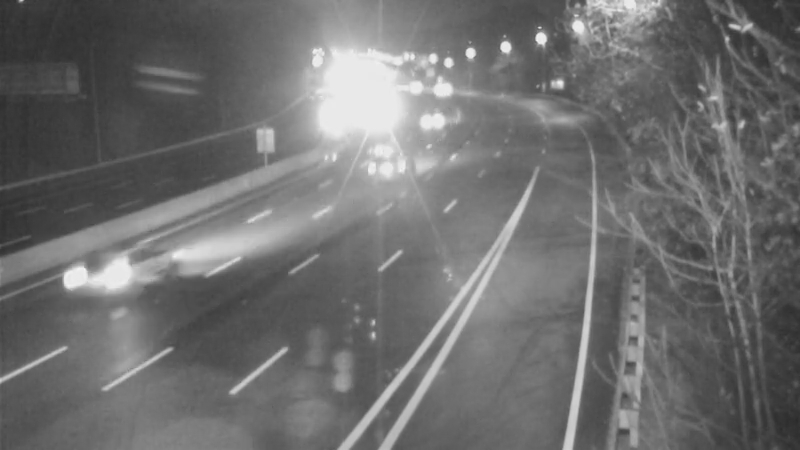vehicle: (359, 119, 439, 199), (64, 238, 144, 318), (400, 94, 450, 144)
